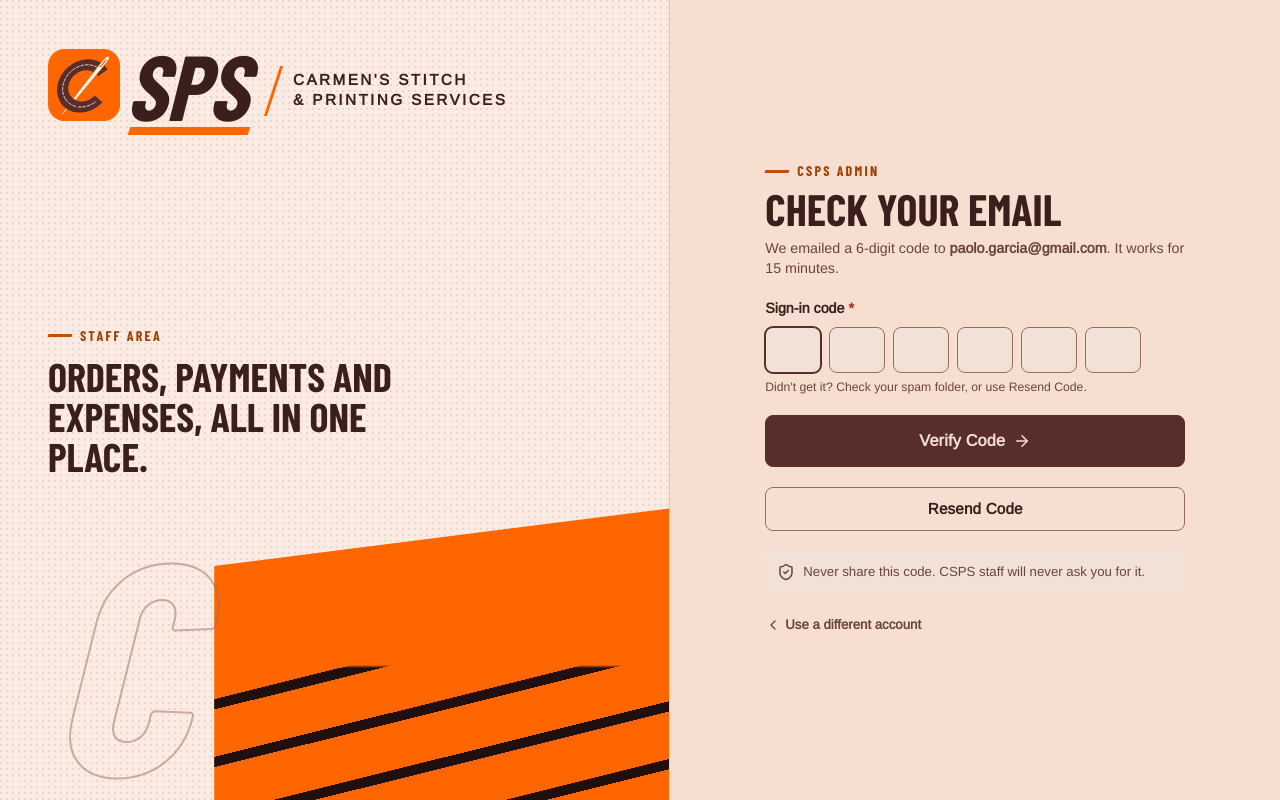
Test case: S2 code step tracer › shows "Enter all 6 digits." under the code and focuses box 1 without a request when it is empty
The width and height of the screenshot is (1280, 800).
Click the button "Verify Code": click(975, 441) [765,415,1185,467]
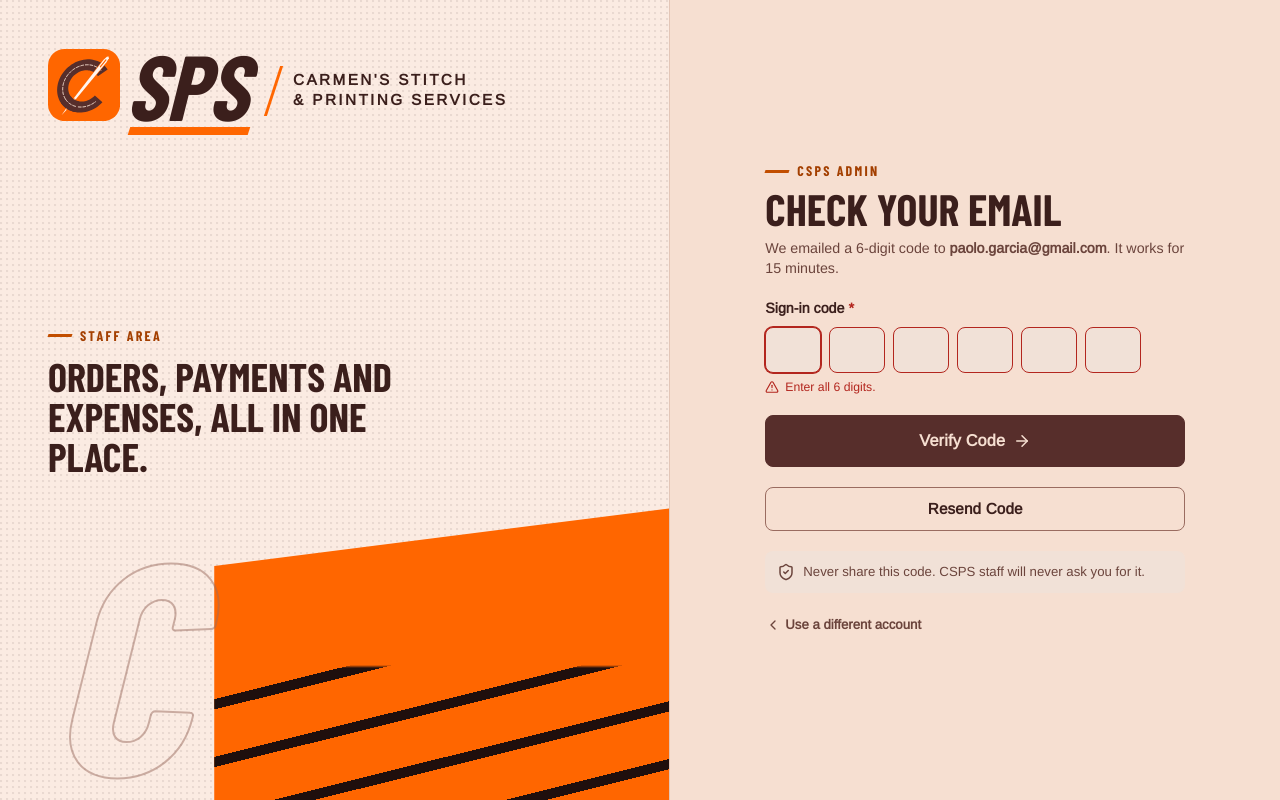
Check: the text "Enter all 6 digits." is shown, box [765,380,876,394]
